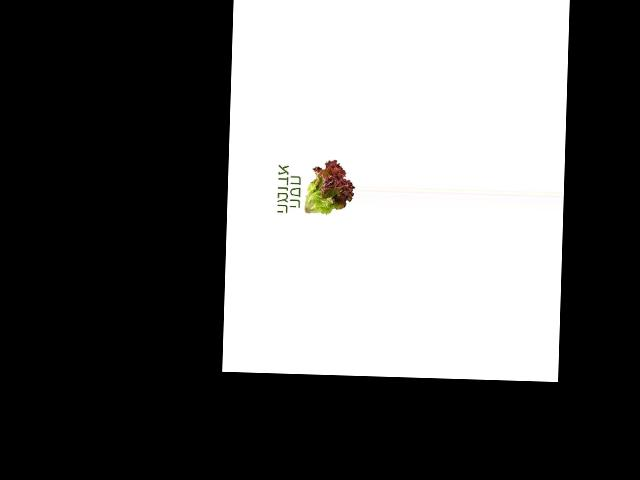lettuce: (302, 157, 356, 220)
